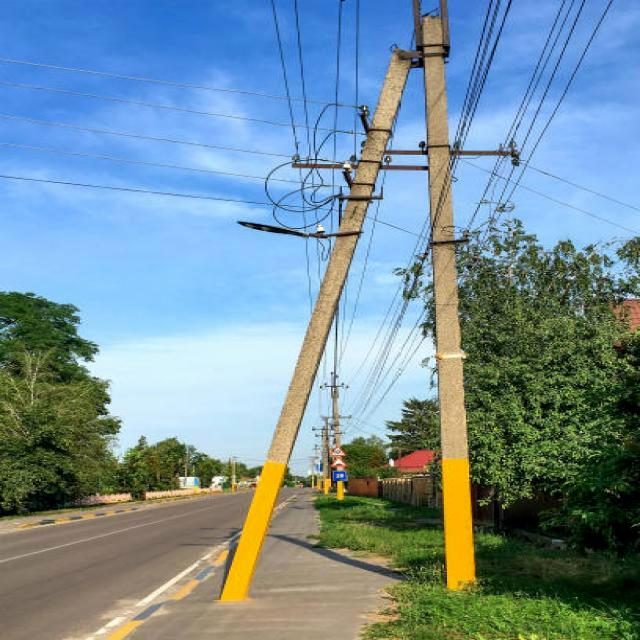Broken Pole: (198, 49, 413, 609)
